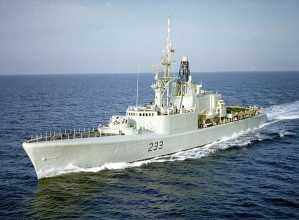warship: (21, 10, 266, 176)
